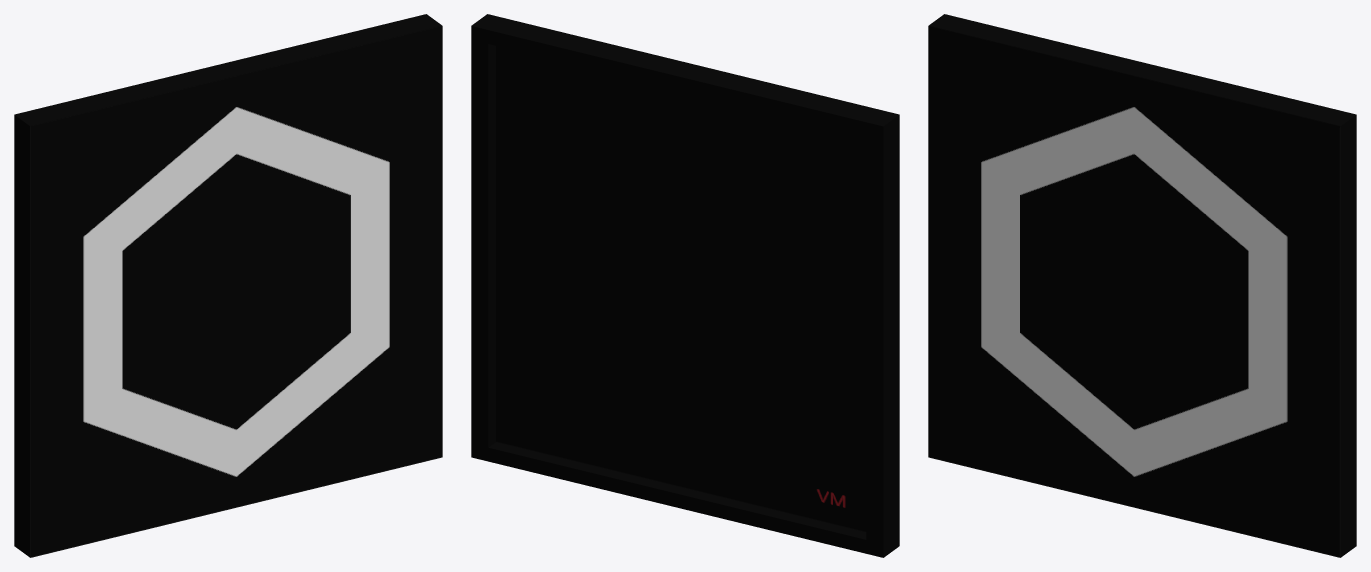
The model's file is 1_Icon.gltf.
3 views of the same model, side by side, from view 1: azimuth 30°, elevation 25°; view 2: azimuth 150°, elevation 25°; view 3: azimuth 330°, elevation 25° (orthographic).
Visible parts, largest first — view 1: Icon 15x15; view 2: Icon 15x15; view 3: Icon 15x15.
Part boxes in pixels (x1,y1,x2,y2): Icon 15x15: (14,14,442,557); Icon 15x15: (471,14,899,557); Icon 15x15: (928,14,1356,557).
Bounding box in the file's own units: 3 × 3 × 0.205.
Materials: 3 (2 with a texture image).
